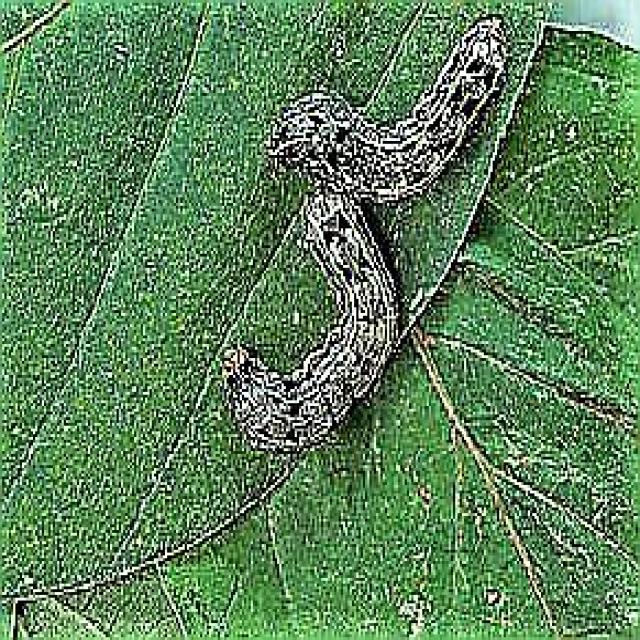Armyworm: (210, 176, 429, 457), (236, 5, 538, 205)
